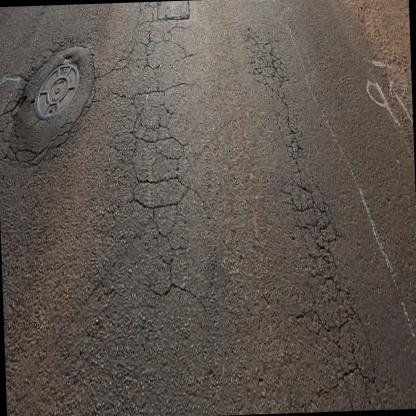manholes: (29, 46, 87, 130)
